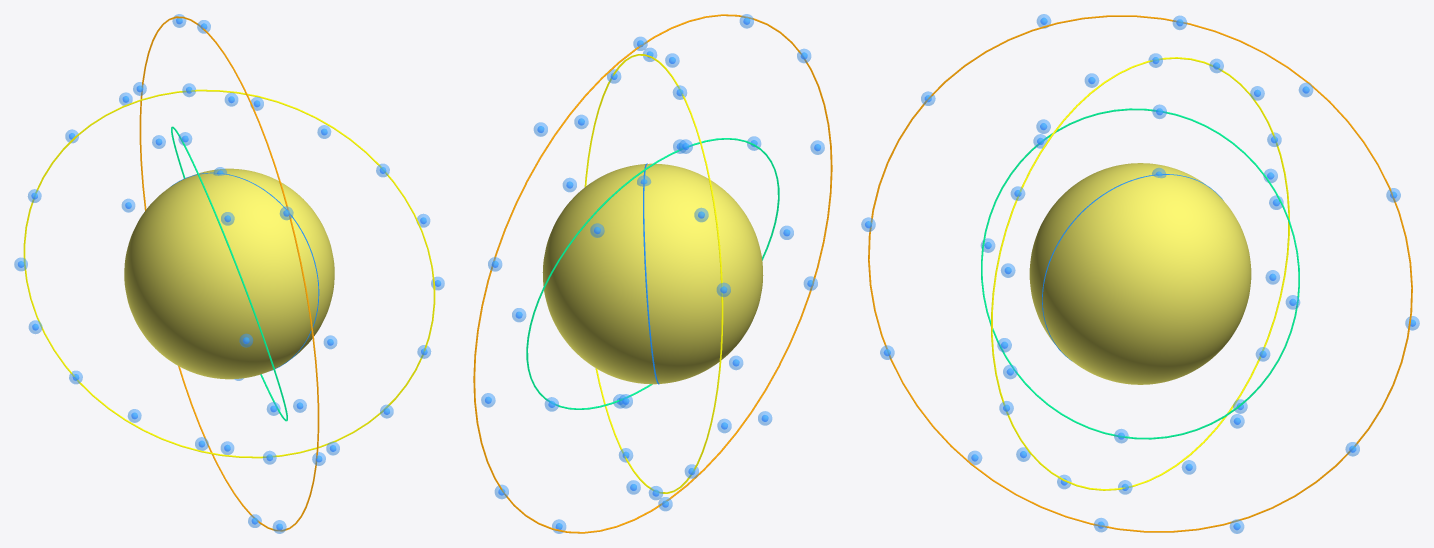
3 views of the same model, side by side, from view 1: azimuth 30°, elevation 25°; view 2: azimuth 150°, elevation 25°; view 3: azimuth 270°, elevation 25° (orthographic). The views are drawn at different scales.
Parts seen in each view (by area): view 1: Zr, object 24, object 61, object 7; view 2: Zr, object 61, object 24, object 7, object 2; view 3: Zr, object 61, object 24, object 7.
Boxes of the visible parts, bbox=[...] form: Zr: bbox=[124, 168, 334, 379]; object 24: bbox=[23, 89, 435, 458]; object 61: bbox=[139, 16, 319, 531]; object 7: bbox=[171, 126, 287, 421]; Zr: bbox=[542, 163, 763, 384]; object 61: bbox=[473, 14, 832, 533]; object 24: bbox=[584, 54, 723, 493]; object 7: bbox=[526, 138, 779, 409]; object 2: bbox=[643, 163, 659, 384]; Zr: bbox=[1029, 163, 1251, 384]; object 61: bbox=[868, 15, 1412, 532]; object 24: bbox=[991, 57, 1289, 490]; object 7: bbox=[981, 108, 1299, 439].
Bounding box in the file's own units: 3.96 × 6.1 × 6.07.
